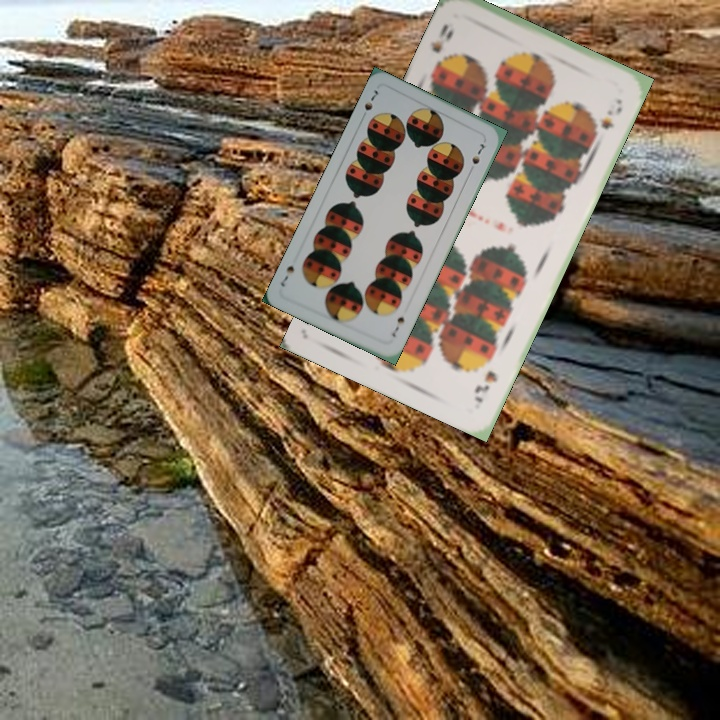S7: (357, 85, 381, 122), (388, 312, 407, 340)
S9: (426, 20, 456, 70), (470, 366, 500, 406)
